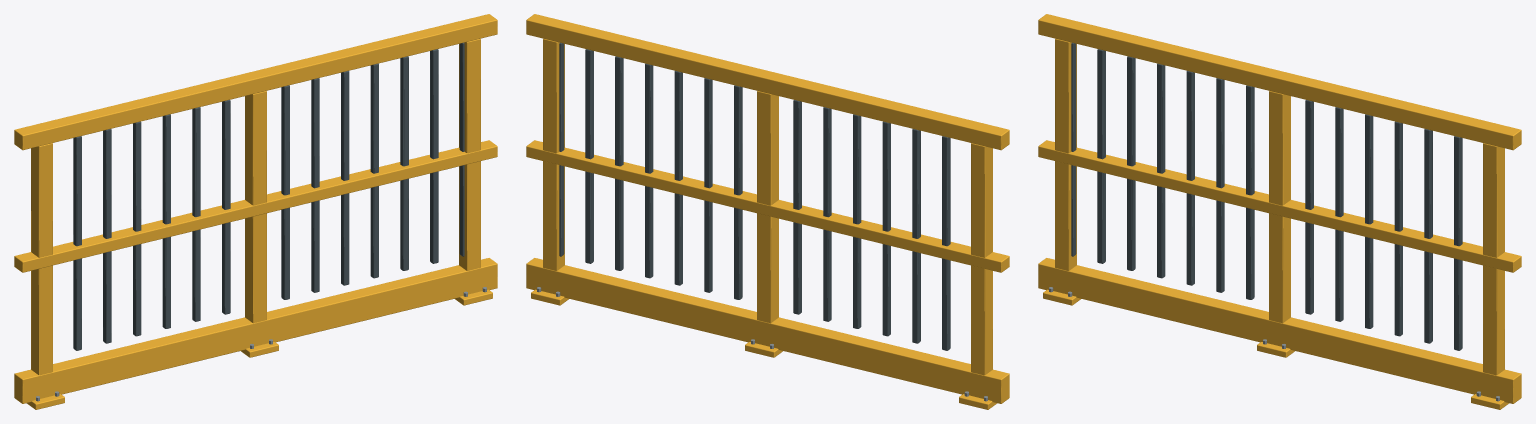
3 renders of one model, left to right at view 1: azimuth 30°, elevation 25°; view 2: azimuth 150°, elevation 25°; view 3: azimuth 330°, elevation 25°, orthographic.
Visible parts, largest first — view 1: SM_NPP_Railing_Infill_2m_B; view 2: SM_NPP_Railing_Infill_2m_B; view 3: SM_NPP_Railing_Infill_2m_B.
Part boxes in pixels (x1,y1,x2,y2): SM_NPP_Railing_Infill_2m_B: (14,14,497,409); SM_NPP_Railing_Infill_2m_B: (526,14,1009,409); SM_NPP_Railing_Infill_2m_B: (1038,14,1521,409).
Size of the model in its own units: 2 by 1.1 by 0.125.
